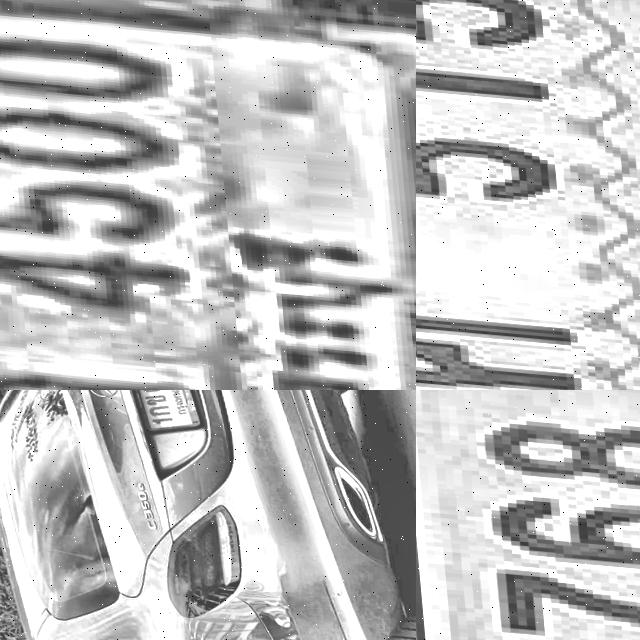license-plate: (0, 0, 416, 390), (416, 0, 640, 390), (416, 390, 640, 640), (115, 390, 201, 435)
